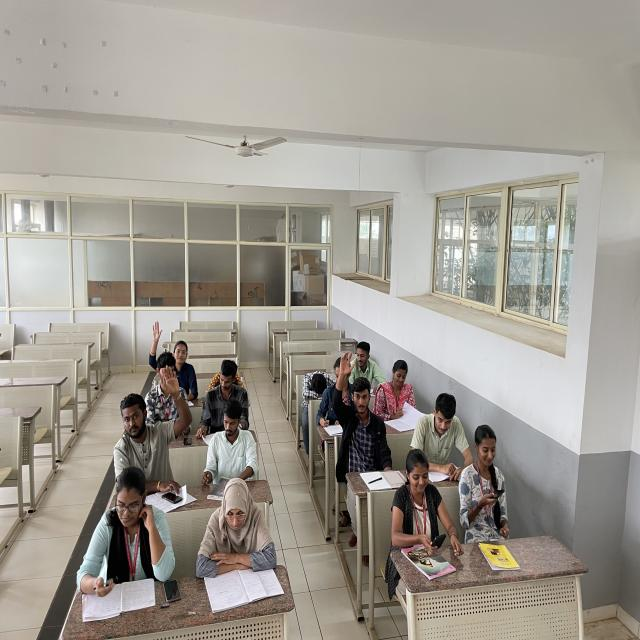Hand Rising: (105, 363, 189, 483), (333, 353, 390, 458), (147, 320, 198, 386)
Reading: (197, 475, 286, 596), (202, 383, 258, 503), (410, 389, 462, 483), (379, 358, 432, 428)
Sleeping: (300, 362, 338, 397)
Using Phone: (389, 453, 460, 555), (463, 422, 522, 518)
Writing: (80, 472, 166, 608), (199, 352, 254, 444), (317, 353, 357, 438)
